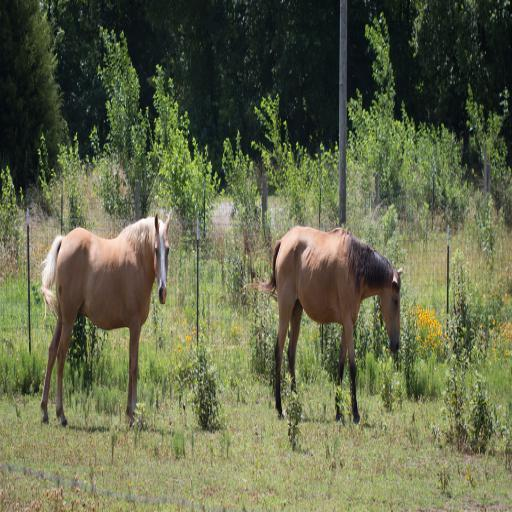horse: (245, 220, 403, 426), (42, 210, 172, 430)
